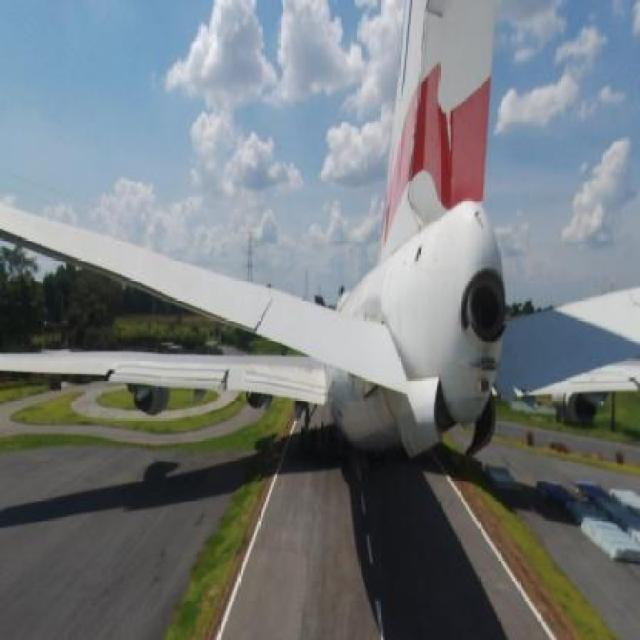Rust: (355, 387, 403, 444)
